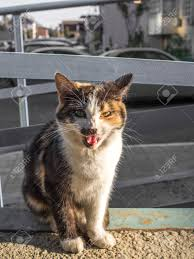cat: (23, 68, 138, 254)
